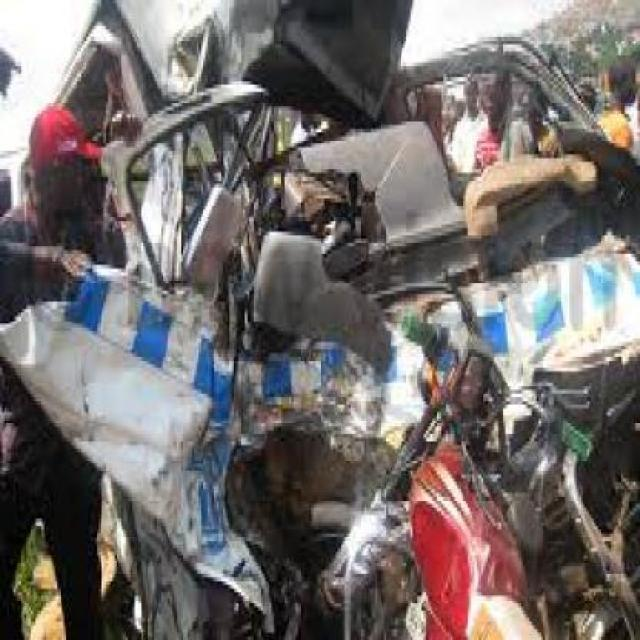accident: (28, 6, 630, 640)
